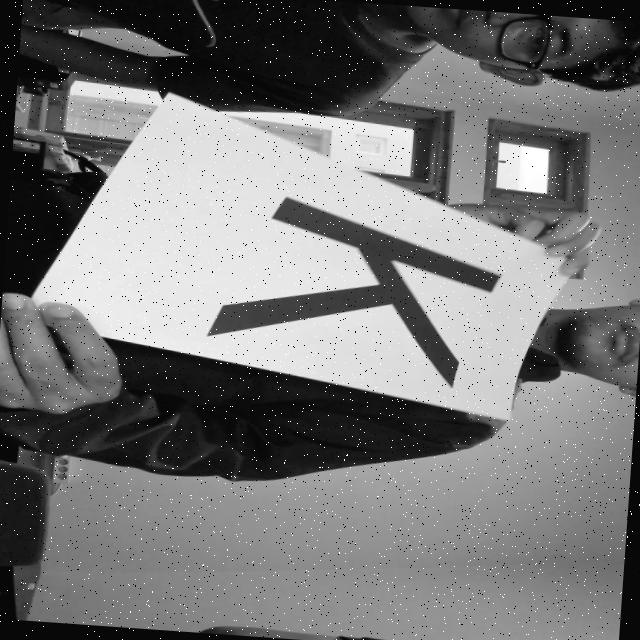k: (184, 184, 514, 392)
